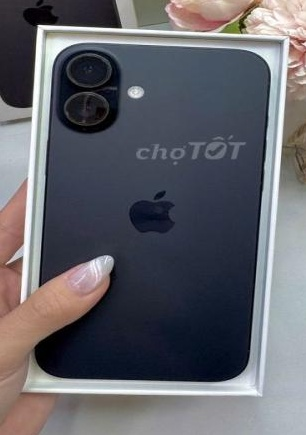scratch: (78, 51, 118, 82), (60, 108, 104, 132)
